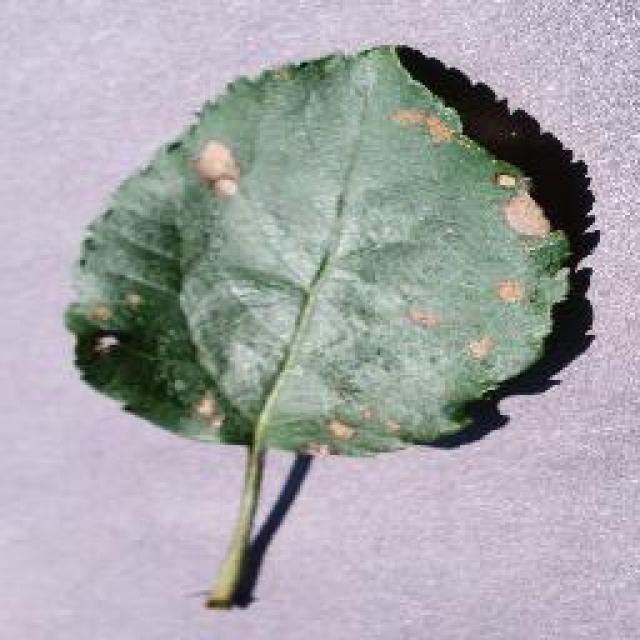Black_rot: (63, 40, 575, 608)
